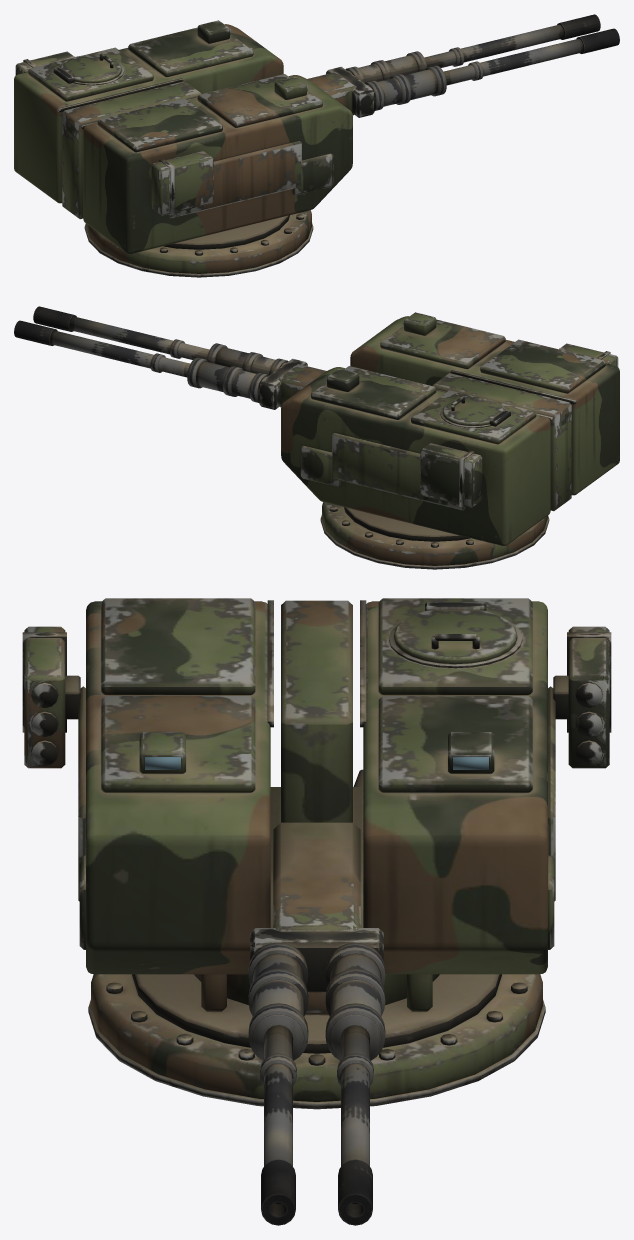
The model's file is turret_kit_t1_forest.glb.
3 renders of one model, top to bottom at view 1: azimuth 30°, elevation 25°; view 2: azimuth 150°, elevation 25°; view 3: azimuth 270°, elevation 25°, orthographic. The views are drawn at different scales.
Parts seen in each view (by area): view 1: turret_twin_t1, guns, pods; view 2: turret_twin_t1, guns, pods; view 3: turret_twin_t1, guns, pods.
Boxes of the visible parts, x1=… form: turret_twin_t1: x1=14, y1=20, x2=352, y2=277; guns: x1=308, y1=14, x2=619, y2=117; pods: x1=15, y1=51, x2=213, y2=215; turret_twin_t1: x1=281, y1=312, x2=619, y2=569; guns: x1=14, y1=306, x2=325, y2=409; pods: x1=420, y1=343, x2=618, y2=507; turret_twin_t1: x1=78, y1=598, x2=555, y2=1109; guns: x1=248, y1=822, x2=385, y2=1225; pods: x1=22, y1=626, x2=611, y2=768.
Bounding box in the file's own units: 2.41 × 0.695 × 1.15.
4 materials, 3 textured.
